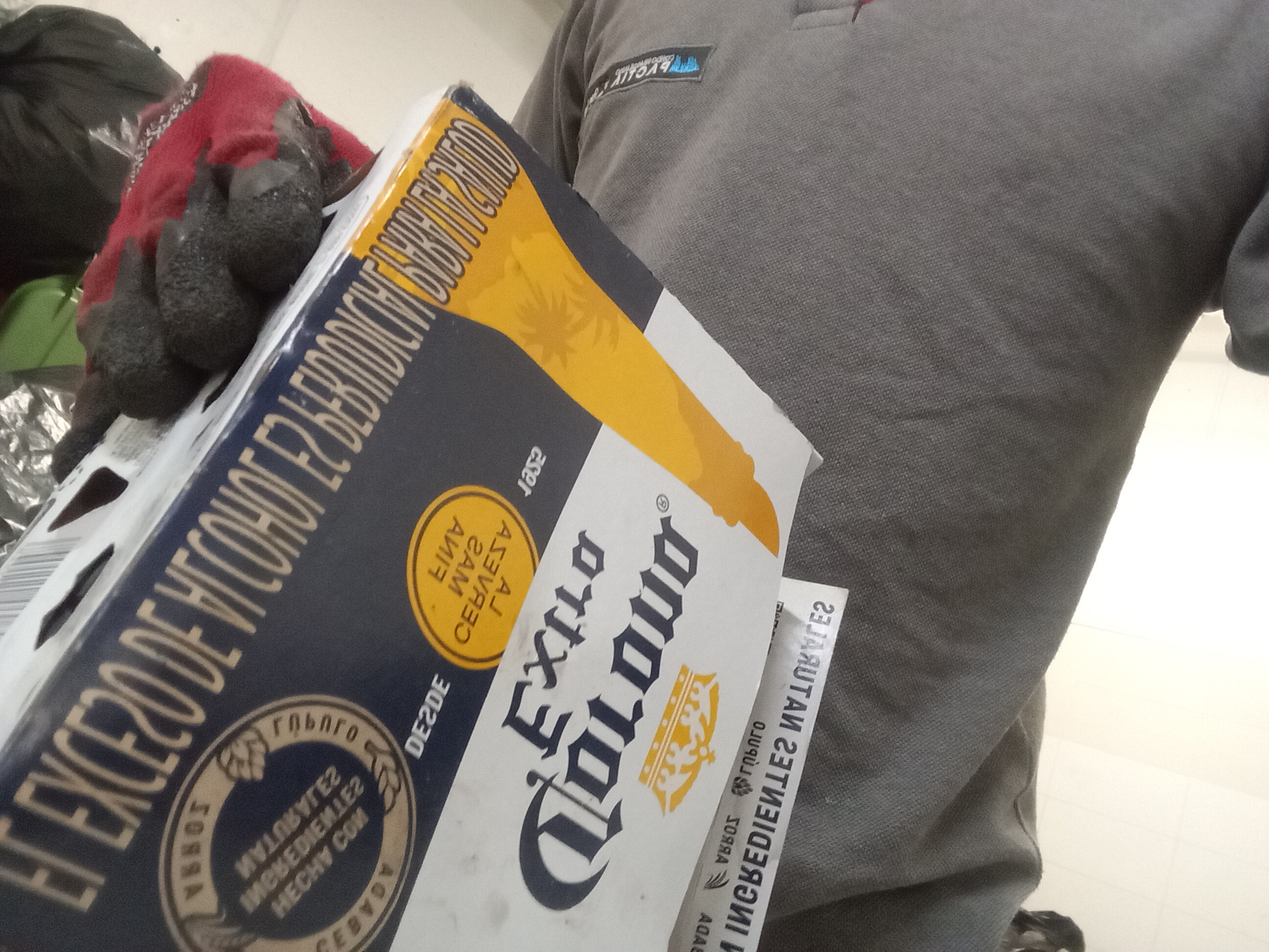Carton: (0, 78, 855, 949)
